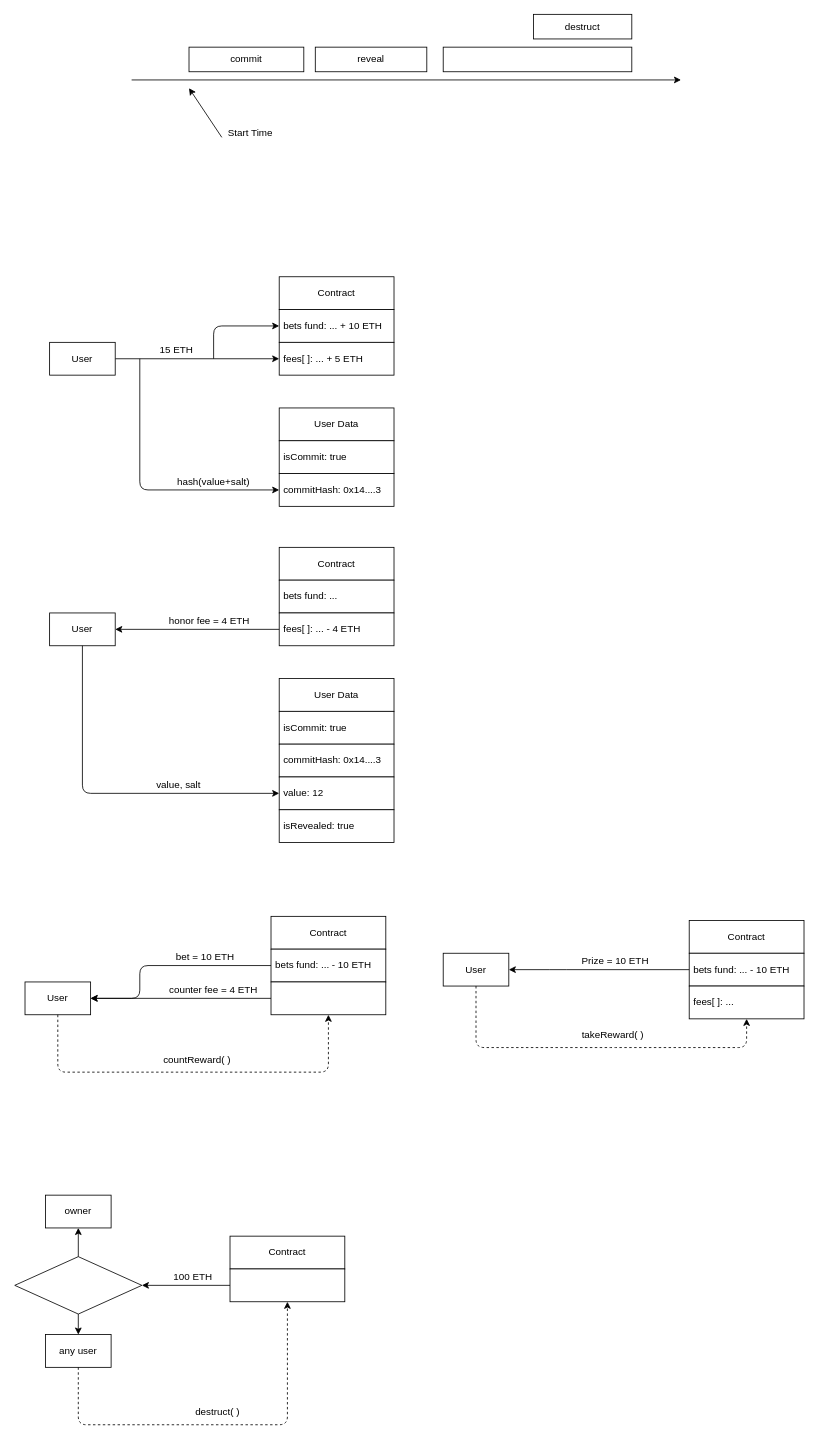
Image size: 818x1446. Some labels were removed from this diagram. Each missing label, with the centre of its shape:
"balance: 0 ETH" goes at point 287,1285.
"fees[ ]: ... - 5 ETH" goes at point 328,998.
"isDestrRewardOwner ?" goes at point 78,1285.
"rewarding" goes at point 537,59.
